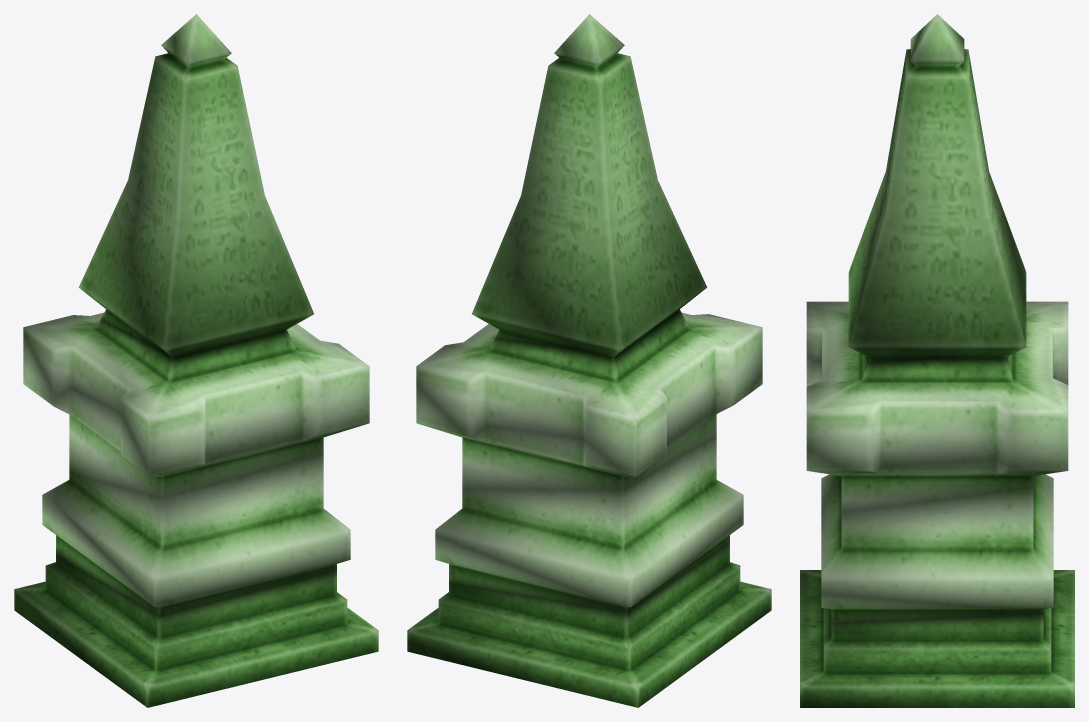
Rendered from a_SWAteam_g.glb.
3 views of the same model, side by side, from view 1: azimuth 30°, elevation 25°; view 2: azimuth 150°, elevation 25°; view 3: azimuth 270°, elevation 25° (orthographic). The views are drawn at different scales.
Visible parts, largest first — view 1: a_SWAteam_g; view 2: a_SWAteam_g; view 3: a_SWAteam_g.
Boxes of the visible parts, left/top/right/bottom form: a_SWAteam_g: left=14, top=14, right=378, bottom=707; a_SWAteam_g: left=407, top=14, right=771, bottom=707; a_SWAteam_g: left=800, top=14, right=1074, bottom=707.
Size of the model in its own units: 0.6936 by 1.77 by 0.6932.
Materials: 1 (1 with a texture image).
